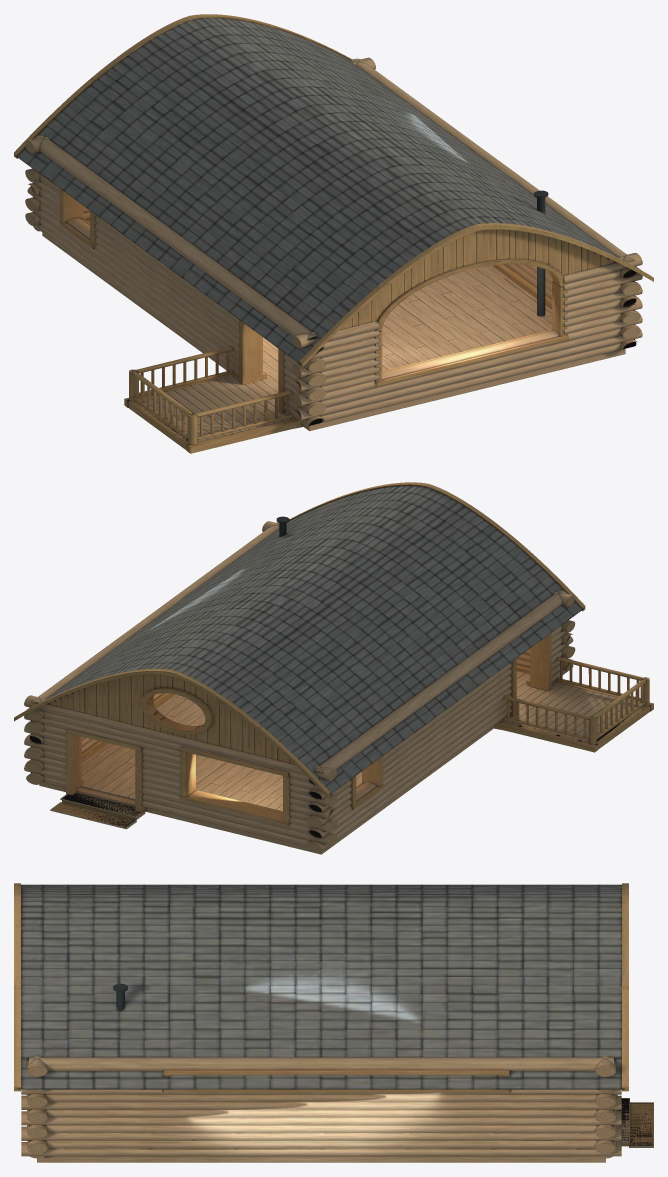
The model's file is cabin-loft.glb.
3 renders of one model, top to bottom at view 1: azimuth 30°, elevation 25°; view 2: azimuth 150°, elevation 25°; view 3: azimuth 270°, elevation 25°, orthographic. The views are drawn at different scales.
Parts seen in each view (by area): view 1: LogCabin_Roof, LogCabin_Logs, LogCabin_Timber, LogCabin_Floor, LogCabin_Metal; view 2: LogCabin_Roof, LogCabin_Logs, LogCabin_Timber, LogCabin_Floor; view 3: LogCabin_Roof, LogCabin_Logs, LogCabin_Timber, LogCabin_Floor.
Part boxes in pixels (left/top/right/bottom): LogCabin_Roof: left=17, top=18, right=640, bottom=364; LogCabin_Logs: left=25, top=57, right=642, bottom=431; LogCabin_Timber: left=14, top=14, right=653, bottom=453; LogCabin_Floor: left=134, top=265, right=552, bottom=442; LogCabin_Metal: left=534, top=190, right=548, bottom=316; LogCabin_Roof: left=27, top=485, right=582, bottom=794; LogCabin_Logs: left=24, top=521, right=575, bottom=854; LogCabin_Timber: left=14, top=482, right=653, bottom=827; LogCabin_Floor: left=50, top=671, right=642, bottom=829; LogCabin_Roof: left=17, top=884, right=624, bottom=1089; LogCabin_Logs: left=21, top=1056, right=621, bottom=1162; LogCabin_Timber: left=14, top=883, right=652, bottom=1146; LogCabin_Floor: left=616, top=1098, right=653, bottom=1147.
Bounding box in the file's own units: 24.02 × 9.17 × 28.01.
Materials: 5 (5 with a texture image).
